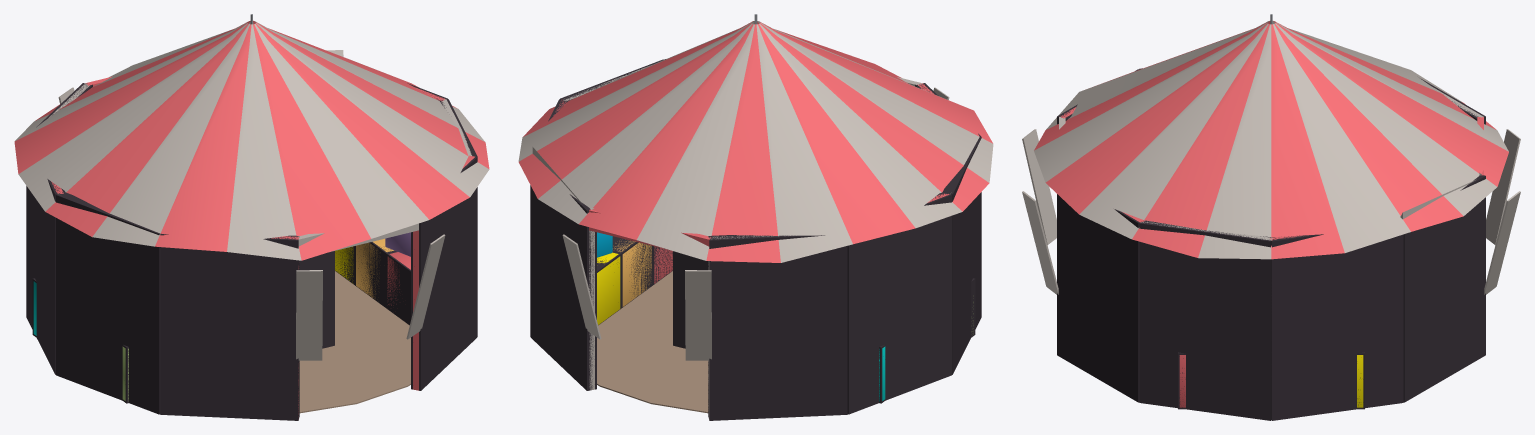
File: TW_Shelter_CircusTent.fbx
3 views of the same model, side by side, from view 1: azimuth 30°, elevation 25°; view 2: azimuth 150°, elevation 25°; view 3: azimuth 270°, elevation 25° (orthographic).
Parts seen in each view (by area): view 1: Body, COL_Wall_06, COL_Wall_05, COL_Wall_08, COL_Wall_04, COL_Crates_0, COL_Curtain_0; view 2: Body, COL_Wall_03, COL_Wall_04, COL_Wall_01, COL_Wall_05, COL_Crates_0, COL_Curtain_1, COL_Crates_1; view 3: Body, COL_Wall_09, COL_Wall_00, COL_Wall_01, COL_Wall_08.
Part boxes in pixels (<box>): Body: <box>14,14,489,416</box>; COL_Wall_06: <box>160,233,299,420</box>; COL_Wall_05: <box>56,191,160,414</box>; COL_Wall_08: <box>411,156,477,390</box>; COL_Wall_04: <box>26,179,65,374</box>; COL_Crates_0: <box>335,242,410,325</box>; COL_Curtain_0: <box>299,251,334,348</box>; Body: <box>518,14,993,419</box>; COL_Wall_03: <box>708,235,847,420</box>; COL_Wall_04: <box>847,192,951,414</box>; COL_Wall_01: <box>530,186,596,390</box>; COL_Wall_05: <box>942,137,981,374</box>; COL_Crates_0: <box>597,236,672,325</box>; COL_Curtain_1: <box>673,251,708,348</box>; COL_Crates_1: <box>879,278,975,403</box>; Body: <box>1022,14,1520,407</box>; COL_Wall_09: <box>1139,220,1271,420</box>; COL_Wall_00: <box>1269,234,1403,420</box>; COL_Wall_01: <box>1403,175,1485,402</box>; COL_Wall_08: <box>1057,194,1139,402</box>.
Bounding box in the file's own units: 21.6 × 15.6 × 22.67.
